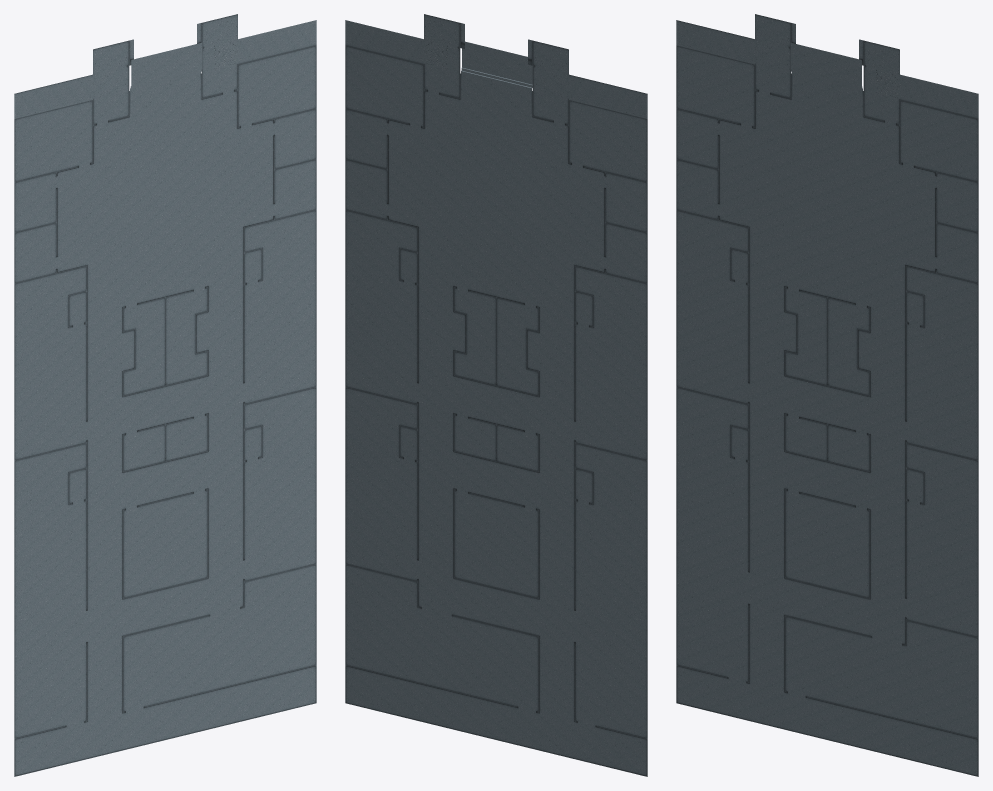
The model's file is aws_robomaker_hospital_floor_02_floor_visual.dae.
The picture shows the model from 3 angles, left to right: view 1: azimuth 30°, elevation 25°; view 2: azimuth 150°, elevation 25°; view 3: azimuth 330°, elevation 25°; orthographic projection.
Visible parts, largest first — view 1: aws_robomaker_hospital_floor_02_floor_visual; view 2: aws_robomaker_hospital_floor_02_floor_visual; view 3: aws_robomaker_hospital_floor_02_floor_visual.
Boxes of the visible parts, x1,y1,x2,y2 form: aws_robomaker_hospital_floor_02_floor_visual: (14,14,316,776); aws_robomaker_hospital_floor_02_floor_visual: (345,14,647,776); aws_robomaker_hospital_floor_02_floor_visual: (676,14,978,776).
Size of the model in its own units: 2500 by 5600 by 17.55.
1 material, 1 textured.
